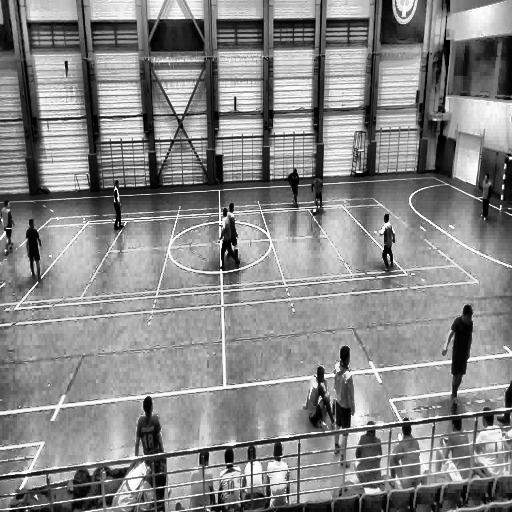ball: (311, 208, 318, 216)
player: (442, 306, 474, 412), (136, 396, 166, 493), (331, 344, 355, 463), (437, 411, 471, 477), (389, 417, 421, 483), (474, 407, 504, 476), (302, 363, 333, 428), (266, 438, 292, 509), (189, 449, 217, 510), (355, 420, 382, 480), (218, 446, 242, 512), (243, 440, 265, 512), (220, 206, 238, 270), (26, 218, 44, 281), (378, 212, 396, 272), (0, 200, 16, 254), (228, 202, 240, 266), (112, 178, 125, 230), (479, 173, 492, 221), (286, 167, 300, 207), (311, 174, 323, 214)
